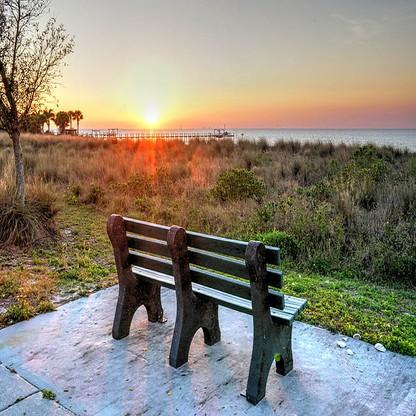obstacle: (103, 207, 317, 401)
